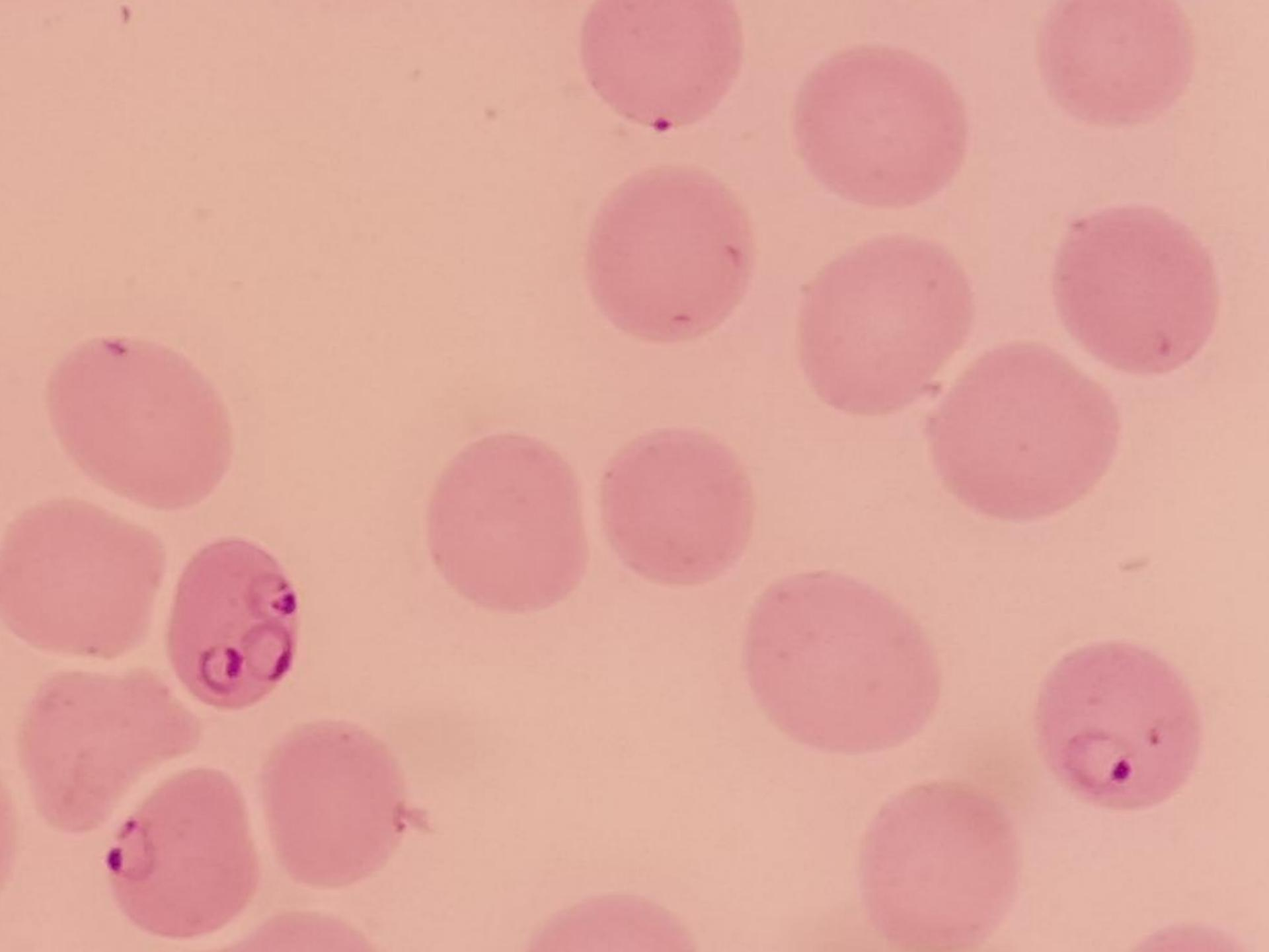Infected: (1035, 635, 1210, 820), (101, 765, 254, 943), (161, 536, 307, 710)
Uninfected: (745, 571, 949, 754), (928, 338, 1115, 522), (7, 664, 213, 830), (40, 333, 234, 507), (579, 157, 758, 344), (791, 241, 977, 414), (423, 435, 599, 616), (789, 34, 969, 210), (864, 769, 1018, 951), (1044, 210, 1219, 366), (251, 725, 404, 881), (593, 432, 746, 583), (0, 512, 167, 646), (577, 0, 746, 132), (1027, 0, 1200, 123)
